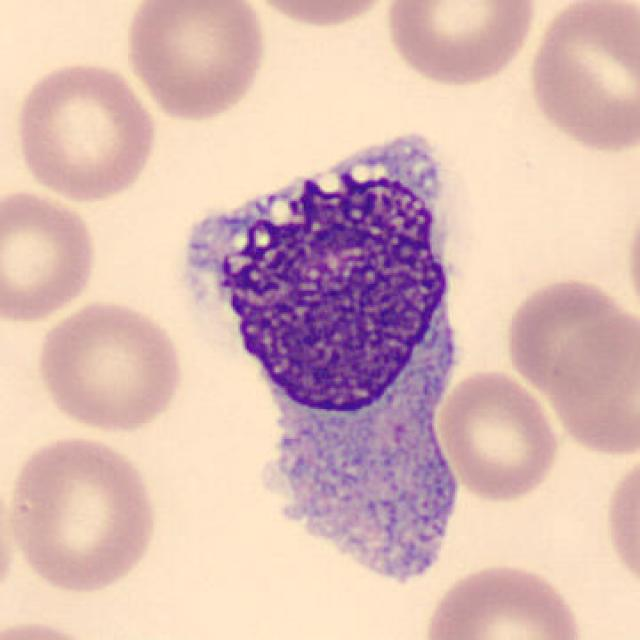Monocyte: (185, 109, 475, 584)
RBC: (3, 430, 162, 596), (10, 56, 162, 205), (32, 296, 187, 436), (119, 0, 270, 123), (523, 0, 638, 157), (434, 367, 564, 504), (501, 274, 635, 398), (546, 305, 638, 462), (380, 0, 540, 90), (0, 185, 101, 326), (418, 559, 590, 640), (601, 446, 640, 600), (240, 0, 400, 32), (0, 458, 18, 617), (0, 615, 114, 640), (622, 190, 640, 328)
